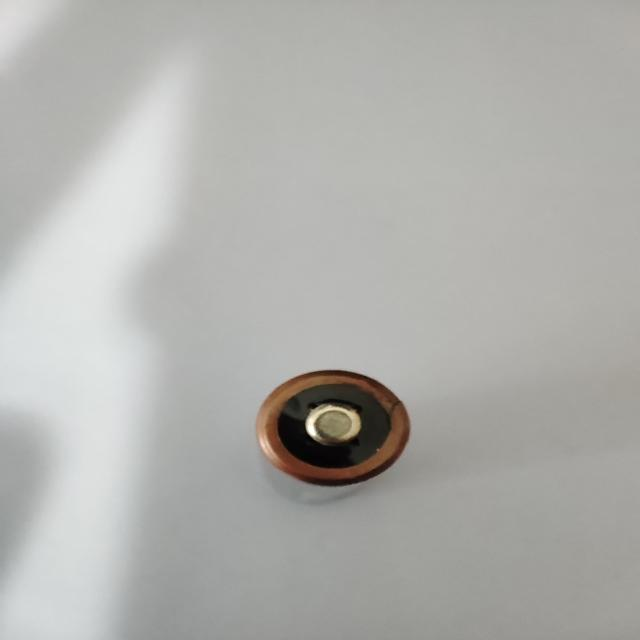AA: (249, 369, 413, 508)
